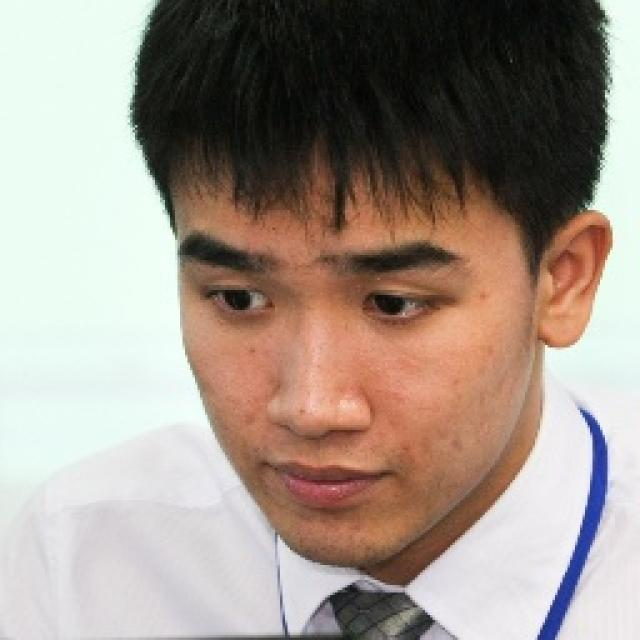earlobe: (534, 294, 594, 350)
eye: (356, 288, 442, 324), (204, 284, 279, 316)
nose: (270, 418, 370, 456)
wholeear: (535, 211, 613, 351)
